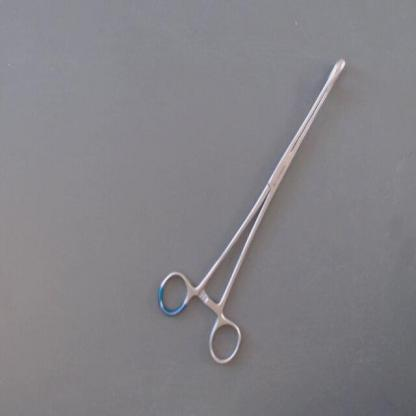Sponge Forceps: (151, 46, 357, 372)
